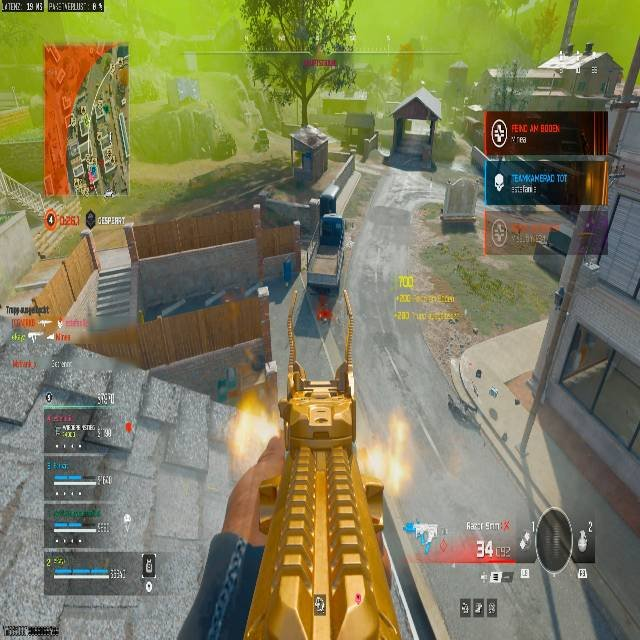head: (288, 125, 333, 166)
player: (257, 124, 347, 275)
